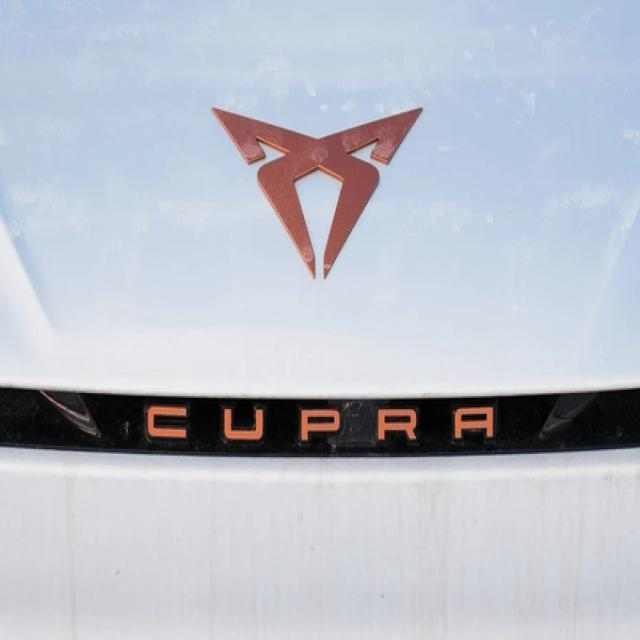cupra: (205, 84, 447, 290)
